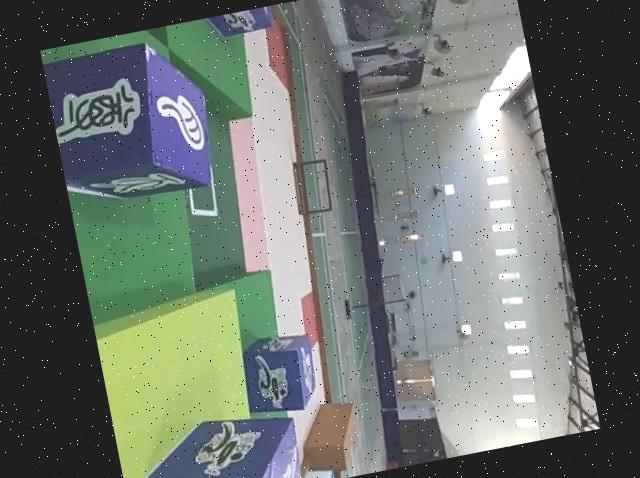R1 Blue: (123, 406, 304, 478), (233, 327, 321, 420), (200, 5, 277, 42)
R2 Fake Blue: (42, 33, 226, 214)
